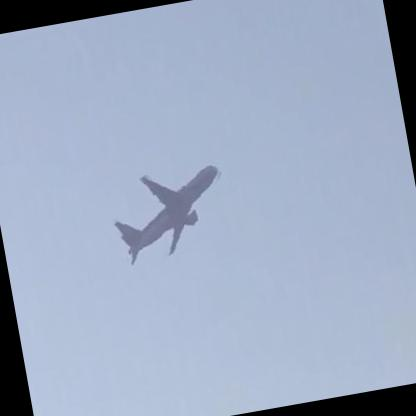plane: (102, 159, 237, 269)
